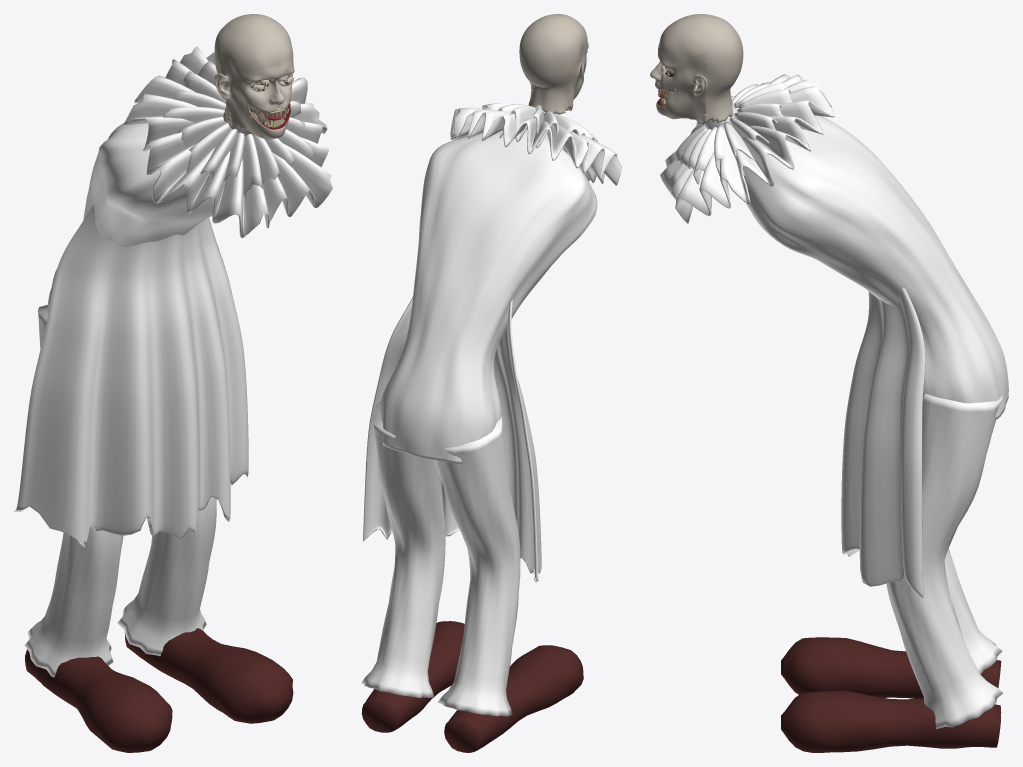
Rendered from clown-web.glb.
3 views of the same model, side by side, from view 1: azimuth 30°, elevation 25°; view 2: azimuth 150°, elevation 25°; view 3: azimuth 270°, elevation 25° (orthographic). The views are drawn at different scales.
Parts seen in each view (by area): view 1: Body, Head; view 2: Body, Head; view 3: Body, Head.
Boxes of the visible parts, bbox=[...] form: Body: bbox=[14, 46, 332, 752]; Head: bbox=[214, 14, 294, 139]; Body: bbox=[361, 103, 621, 752]; Head: bbox=[519, 14, 588, 114]; Body: bbox=[660, 74, 1008, 752]; Head: bbox=[650, 14, 743, 125].
Bounding box in the file's own units: 0.6057 × 1.98 × 0.9153.
